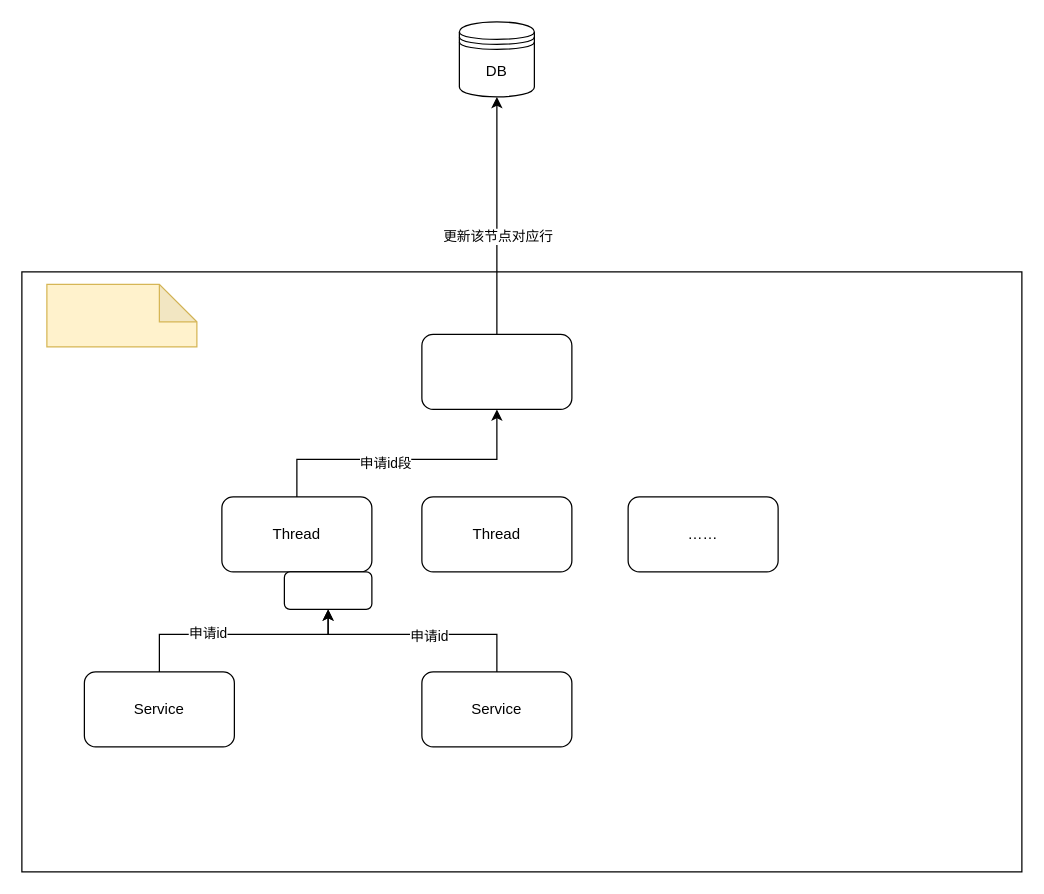
This 1044x894 diagram has some shape labels left out. Each missing label, with the centre of its shape:
IdAllocPool: pixel 327 590
IdAllocService: pixel 496 371
Node: pixel 121 315
